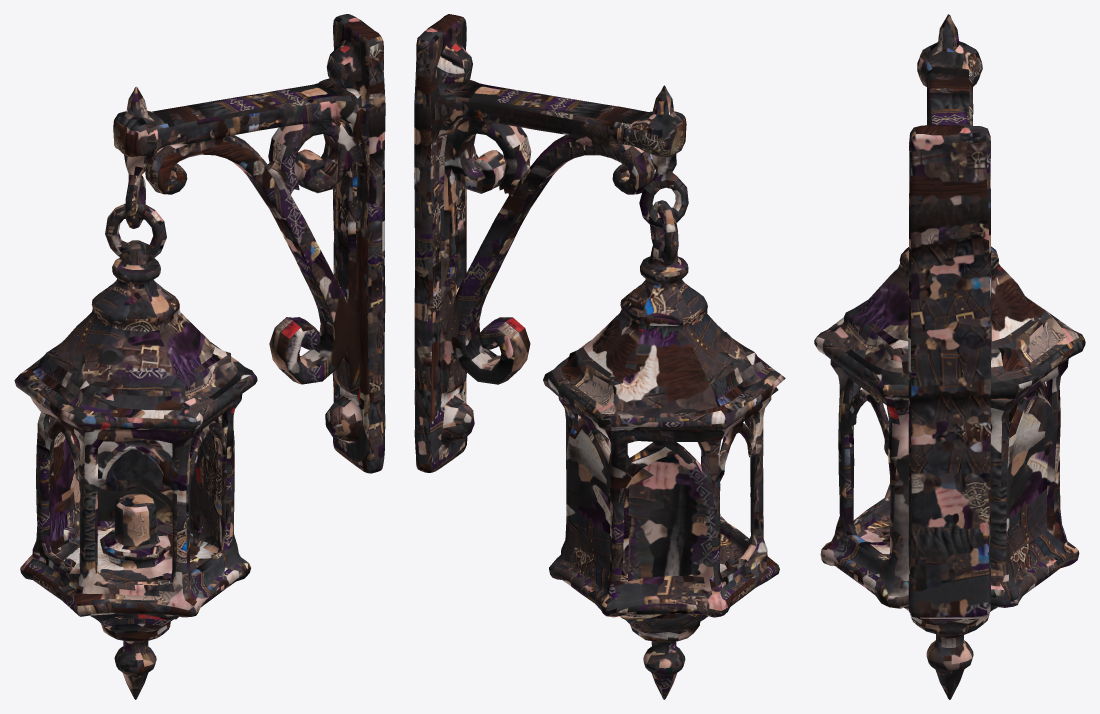
The picture shows the model from 3 angles, left to right: view 1: azimuth 30°, elevation 25°; view 2: azimuth 150°, elevation 25°; view 3: azimuth 270°, elevation 25°; orthographic projection. The views are drawn at different scales.
Visible parts, largest first — view 1: tripo_node_c2f268de; view 2: tripo_node_c2f268de; view 3: tripo_node_c2f268de.
Part boxes in pixels (bbox=[...]): tripo_node_c2f268de: bbox=[14, 14, 385, 699]; tripo_node_c2f268de: bbox=[414, 14, 785, 699]; tripo_node_c2f268de: bbox=[814, 14, 1085, 699].
Bounding box in the file's own units: 0.5342 × 0.9745 × 0.3459.
